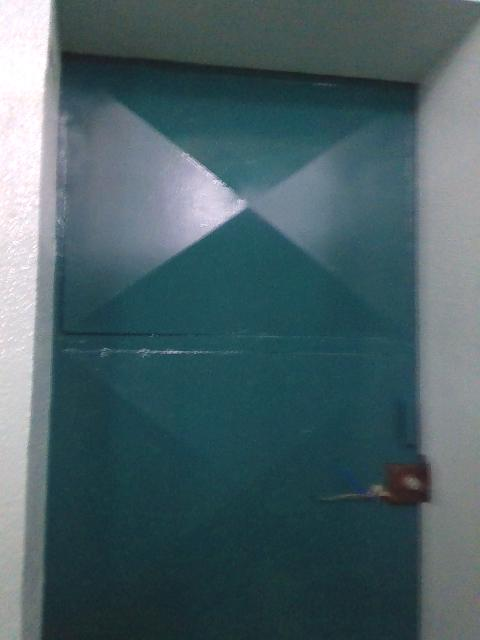closed_door: (39, 50, 420, 638)
